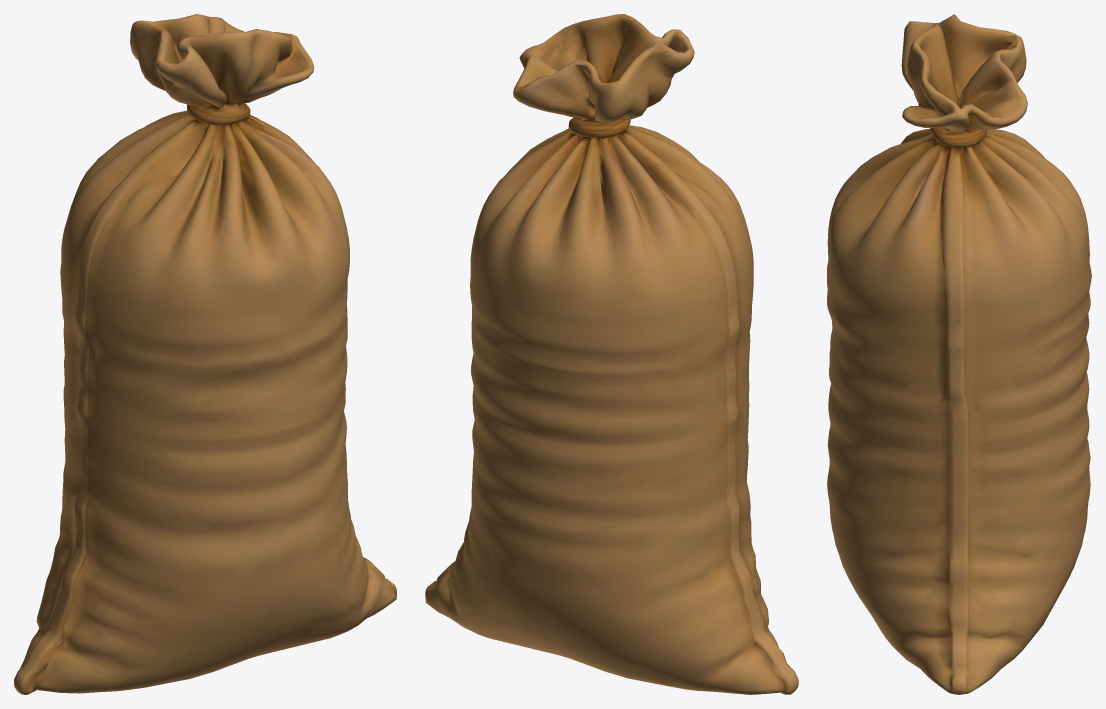
File: a_sandbag_wall_a230dd4c_v3.glb
The picture shows the model from 3 angles, left to right: view 1: azimuth 30°, elevation 25°; view 2: azimuth 150°, elevation 25°; view 3: azimuth 270°, elevation 25°; orthographic projection. The views are drawn at different scales.
Visible parts, largest first — view 1: material; view 2: material; view 3: material.
Part boxes in pixels (x1,y1,x2,y2): material: (14, 14, 396, 694); material: (425, 14, 798, 694); material: (827, 14, 1091, 694).
Size of the model in its own units: 1.19 by 1.9 by 0.7831.
1 material, 1 textured.
